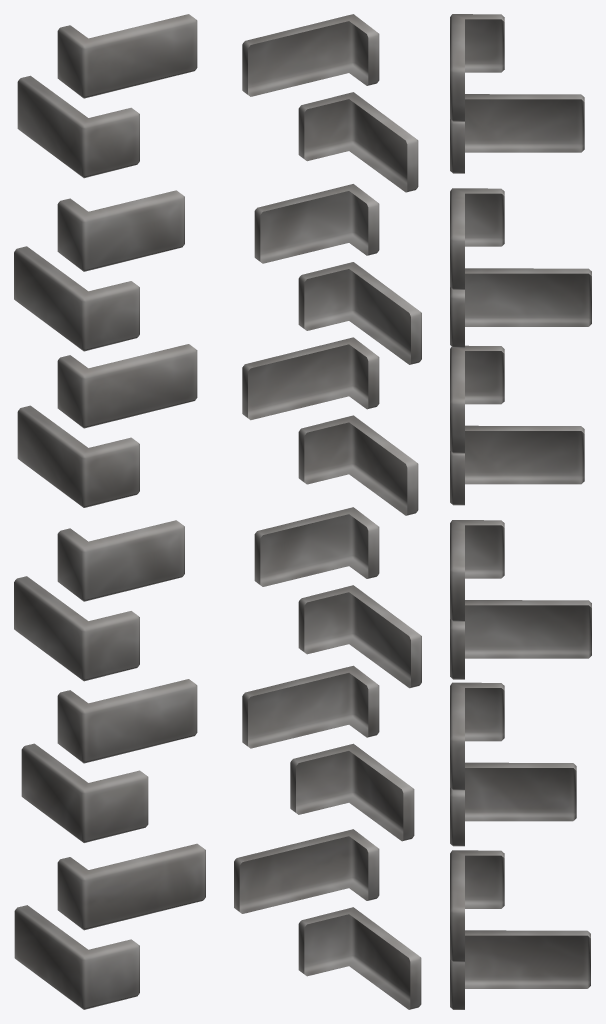
Rendered from PropTrimFacade01_10.FBX.
The picture shows the model from 3 angles, left to right: view 1: azimuth 30°, elevation 25°; view 2: azimuth 210°, elevation 25°; view 3: azimuth 270°, elevation 25°; orthographic projection. The views are drawn at different scales.
Parts seen in each view (by area): view 1: PropTrimFacade01_10; view 2: PropTrimFacade01_10; view 3: PropTrimFacade01_10.
Part boxes in pixels (x1,y1,x2,y2): PropTrimFacade01_10: (14,14,205,1009); PropTrimFacade01_10: (234,14,421,1009); PropTrimFacade01_10: (450,14,591,1009).
Size of what is drawn, in the model's own units: 0.451 by 3.34 by 0.4435.
